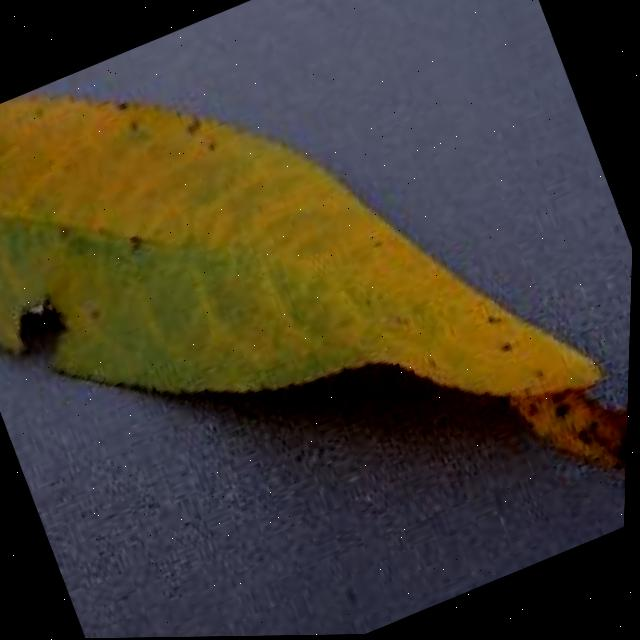Bacterial_spot: (423, 243, 633, 570), (87, 57, 234, 200), (111, 219, 156, 266), (0, 180, 16, 252)
